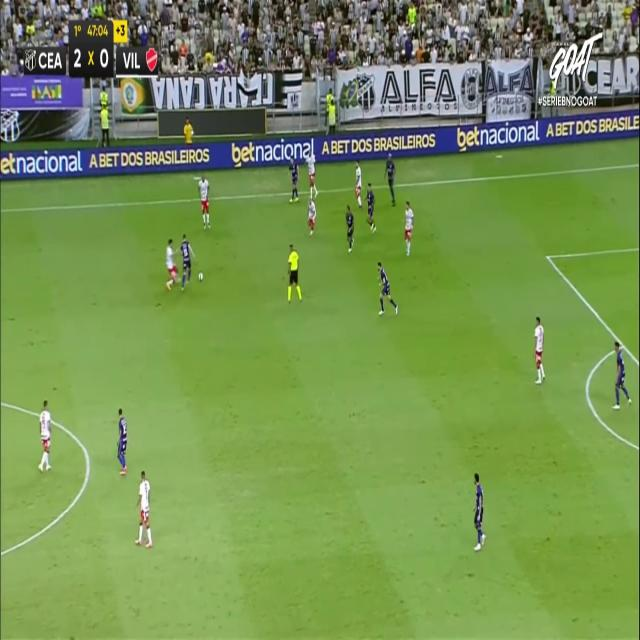ball: (197, 271, 206, 284)
player: (135, 470, 153, 548), (612, 339, 632, 409), (376, 261, 398, 316), (38, 398, 52, 471), (473, 472, 486, 550), (179, 233, 195, 291), (533, 316, 545, 383), (117, 407, 128, 475), (165, 237, 179, 290), (198, 175, 211, 229), (384, 151, 396, 206), (305, 149, 317, 201), (365, 181, 376, 233), (404, 200, 414, 255), (288, 154, 299, 202), (345, 204, 354, 253), (355, 159, 363, 207), (307, 198, 316, 236)
referee: (286, 243, 302, 302)
